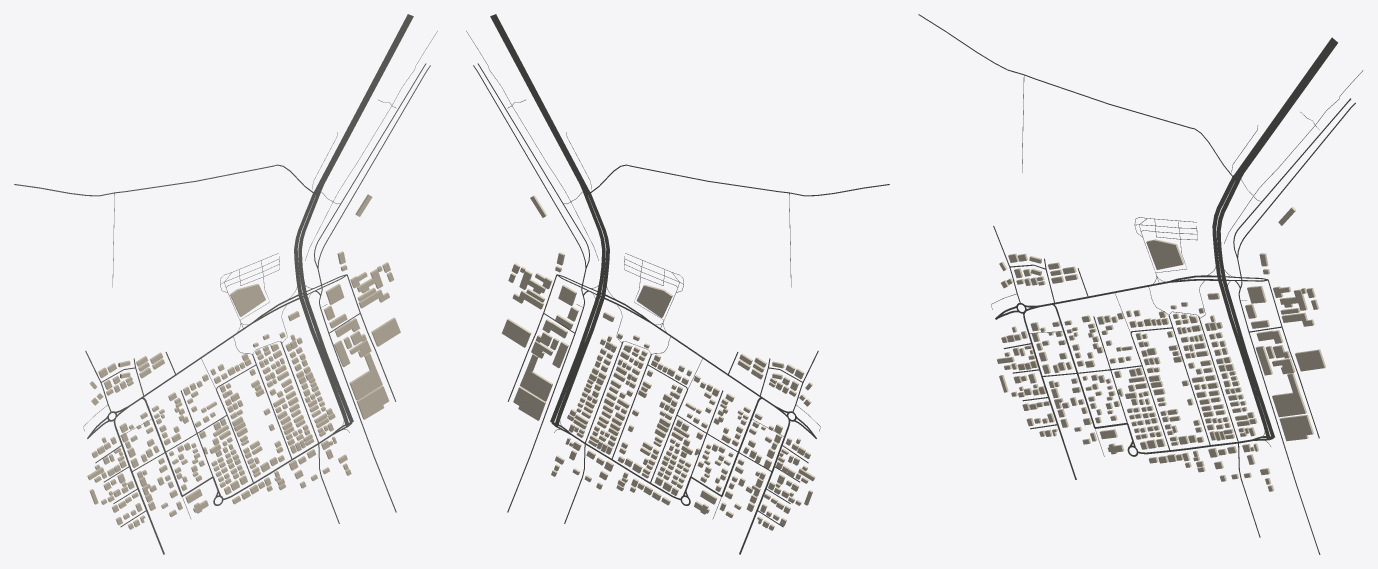
File: historic-palestine-07_30_3490_3245.glb
3 views of the same model, side by side, from view 1: azimuth 30°, elevation 25°; view 2: azimuth 150°, elevation 25°; view 3: azimuth 330°, elevation 25° (orthographic). The views are drawn at different scales.
Parts seen in each view (by area): view 1: Road כביש חיפה רעננה.003, Road כביש חיפה רעננה.002, Building_, Building_.004, Road כביש חיפה רעננה, Road כביש חיפה רעננה.001, Building_.003, Road מבצע יונתן; view 2: Road כביש חיפה רעננה.002, Road כביש חיפה רעננה.003, Building_, Building_.004, Road כביש חיפה רעננה, Road כביש חיפה רעננה.001, Building_.003, Road מבצע יונתן; view 3: Road כביש חיפה רעננה.003, Road כביש חיפה רעננה.002, Building_, Road כביש חיפה רעננה, Road כביש חיפה רעננה.001, Building_.004, Building_.003, Road מבצע יונתן.
Part boxes in pixels (<box>): Road כביש חיפה רעננה.003: <box>294,14,410,294</box>; Road כביש חיפה רעננה.002: <box>298,15,413,292</box>; Building_: <box>229,283,265,316</box>; Building_.004: <box>356,385,389,419</box>; Road כביש חיפה רעננה: <box>303,295,353,423</box>; Road כביש חיפה רעננה.001: <box>299,296,348,424</box>; Building_.003: <box>349,368,382,400</box>; Road מבצע יונתן: <box>14,164,317,196</box>; Road כביש חיפה רעננה.002: <box>490,15,605,291</box>; Road כביש חיפה רעננה.003: <box>493,14,609,294</box>; Building_: <box>636,284,672,317</box>; Building_.004: <box>513,386,545,420</box>; Road כביש חיפה רעננה: <box>550,295,600,423</box>; Road כביש חיפה רעננה.001: <box>555,297,604,424</box>; Building_.003: <box>520,369,552,401</box>; Road מבצע יונתן: <box>586,164,889,196</box>; Road כביש חיפה רעננה.003: <box>1212,37,1334,276</box>; Road כביש חיפה רעננה.002: <box>1217,40,1337,276</box>; Building_: <box>1146,239,1184,269</box>; Road כביש חיפה רעננה: <box>1222,280,1275,437</box>; Road כביש חיפה רעננה.001: <box>1218,280,1269,436</box>; Building_.004: <box>1279,414,1313,441</box>; Building_.003: <box>1272,392,1306,417</box>; Road מבצע יונתן: <box>918,14,1237,181</box>.
Bounding box in the file's own units: 1352 × 1512 × 9.09.
